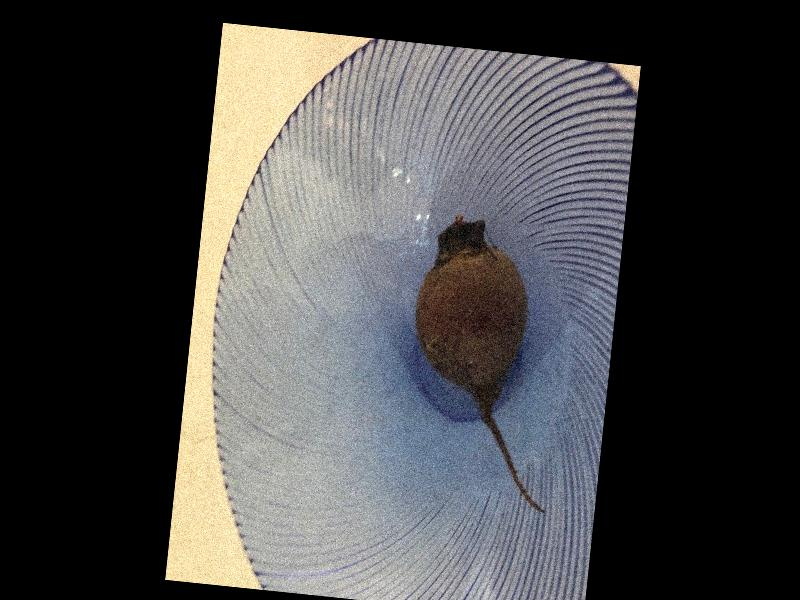Beet: (398, 214, 572, 512)
